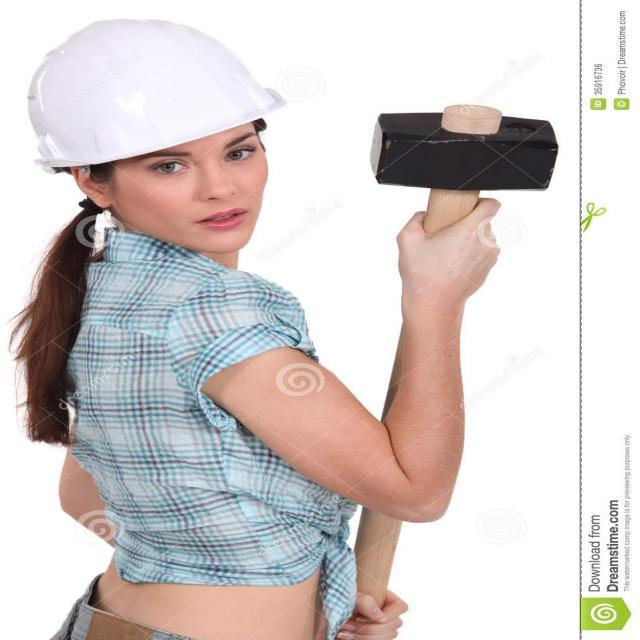hammer: (343, 91, 565, 640)
